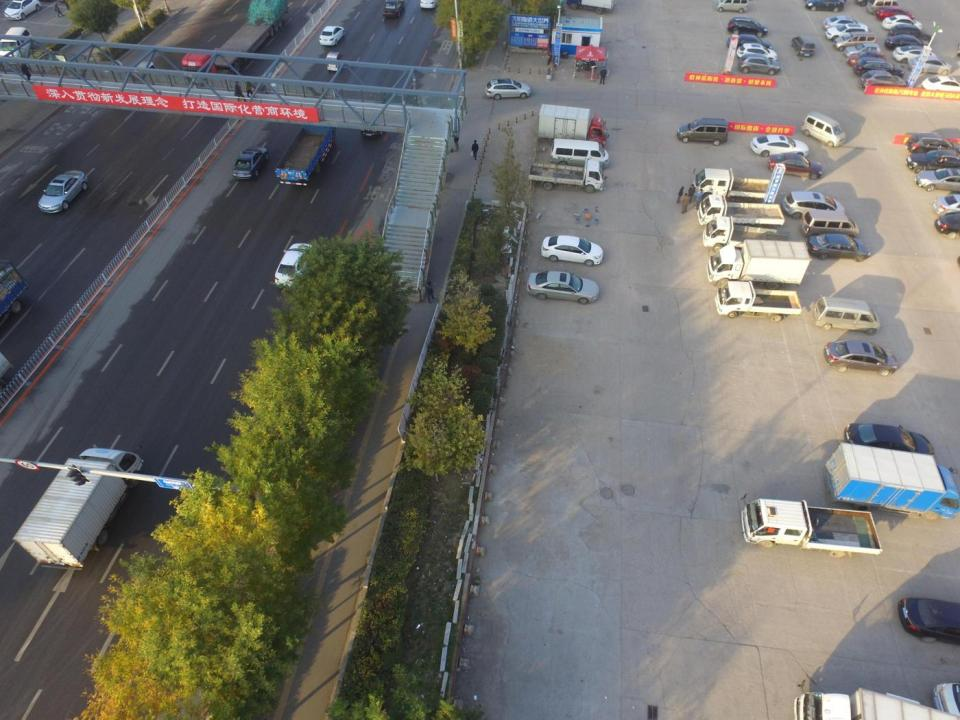car: (844, 422, 934, 459), (895, 594, 960, 644), (820, 340, 898, 376), (525, 271, 600, 304), (274, 243, 317, 294), (39, 169, 88, 213), (539, 236, 604, 266), (810, 228, 866, 262), (785, 192, 844, 217), (233, 144, 269, 182), (904, 148, 960, 172), (908, 130, 960, 155), (769, 154, 823, 178), (751, 134, 808, 156), (914, 166, 959, 193), (357, 99, 386, 137), (860, 69, 905, 92), (740, 54, 782, 77), (485, 79, 531, 99), (856, 57, 905, 75), (883, 33, 930, 50), (728, 35, 772, 53), (736, 43, 777, 62), (894, 47, 938, 64), (827, 24, 872, 40), (824, 16, 866, 33), (910, 57, 952, 74), (3, 0, 40, 19), (728, 18, 765, 37), (934, 213, 960, 240), (318, 25, 346, 49), (890, 26, 932, 42), (924, 76, 960, 94), (837, 33, 876, 49), (885, 15, 923, 31), (802, 0, 845, 14), (876, 7, 916, 21), (790, 35, 816, 56), (846, 50, 888, 62), (847, 45, 882, 59), (936, 194, 960, 214), (382, 0, 404, 19)
truck: (14, 449, 143, 570), (824, 443, 960, 522), (182, 0, 291, 97), (743, 495, 884, 557), (710, 243, 810, 285), (712, 280, 805, 323), (276, 122, 336, 187), (703, 216, 791, 252), (694, 169, 772, 209), (538, 104, 608, 148), (699, 195, 785, 230), (530, 158, 607, 195), (564, 0, 616, 14)
van: (812, 295, 880, 334), (551, 138, 609, 168), (800, 111, 848, 147), (676, 115, 727, 146), (803, 210, 857, 236), (126, 58, 157, 100), (0, 26, 31, 62), (868, 0, 900, 14), (717, 1, 750, 14)
